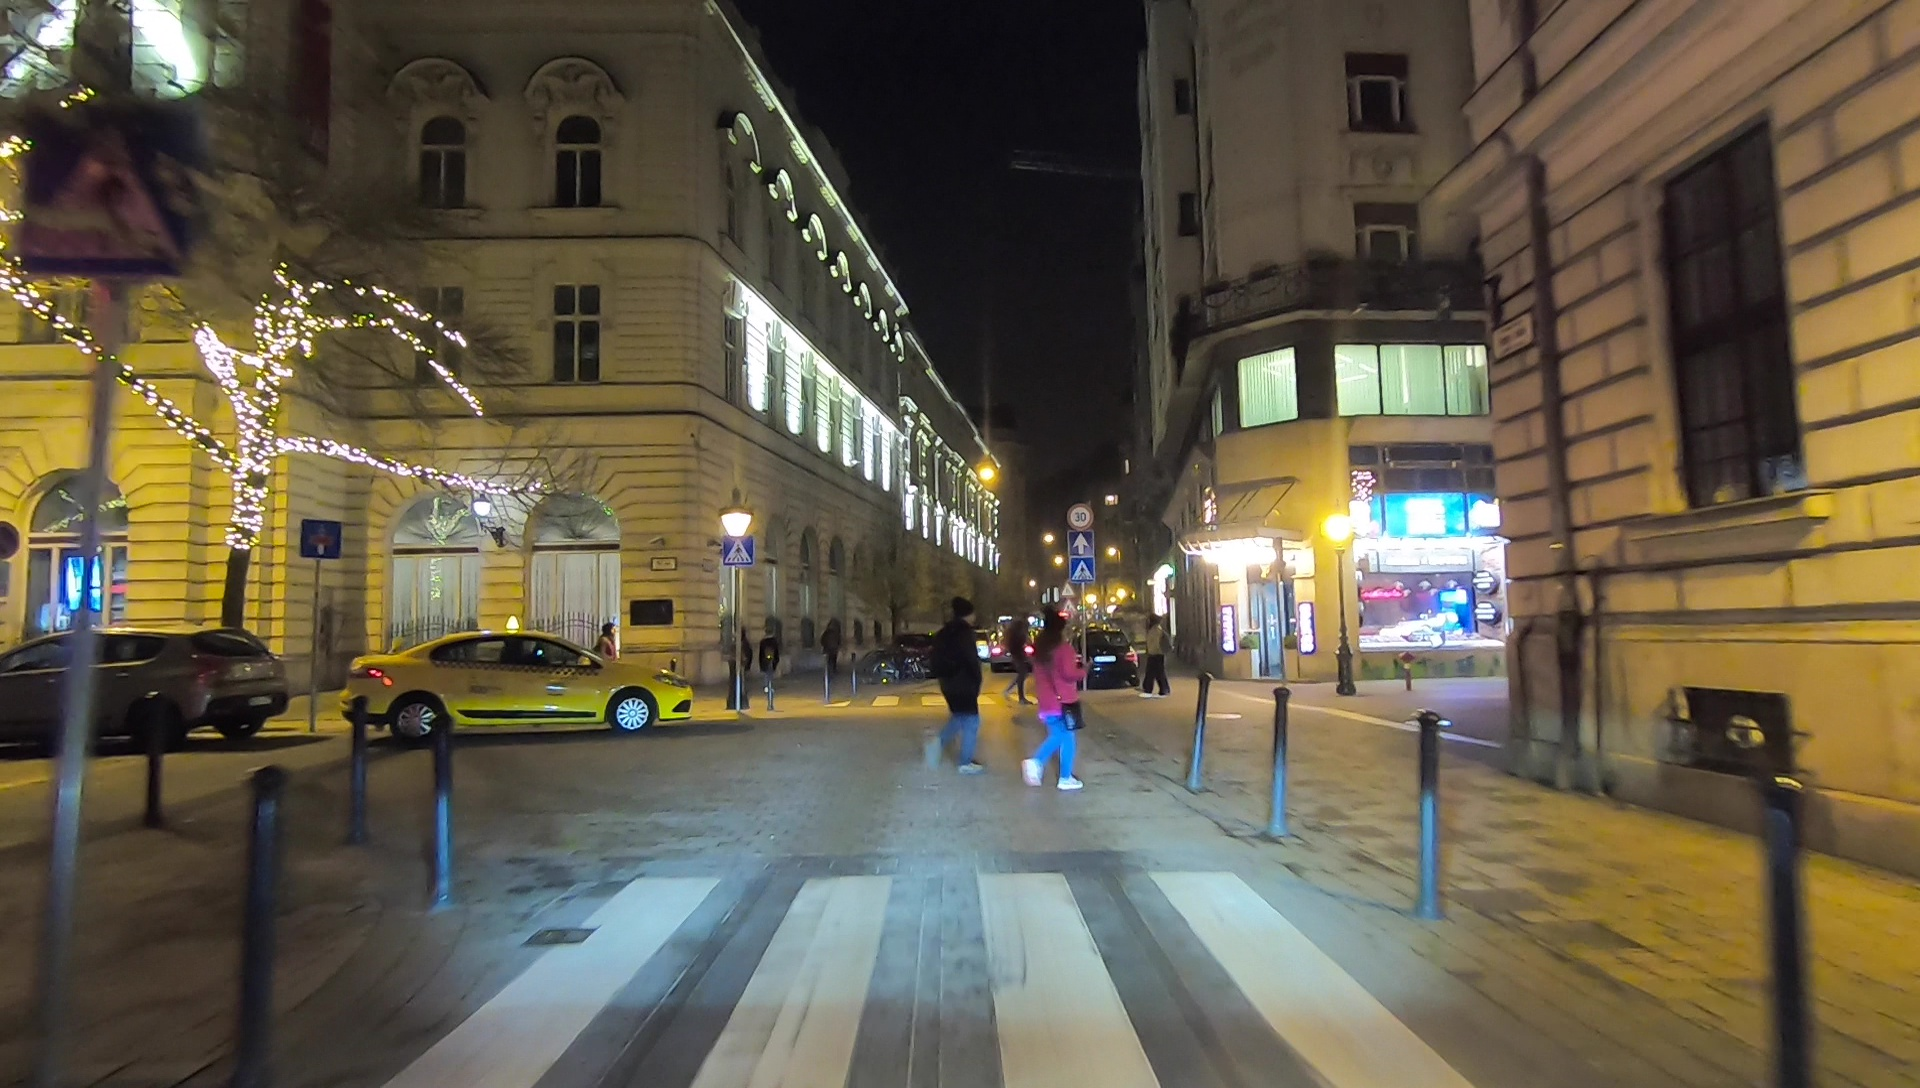person: (925, 593, 993, 773), (1023, 619, 1080, 791), (1141, 613, 1173, 697), (999, 619, 1030, 699), (601, 624, 615, 684), (760, 628, 776, 674), (825, 624, 839, 676)
